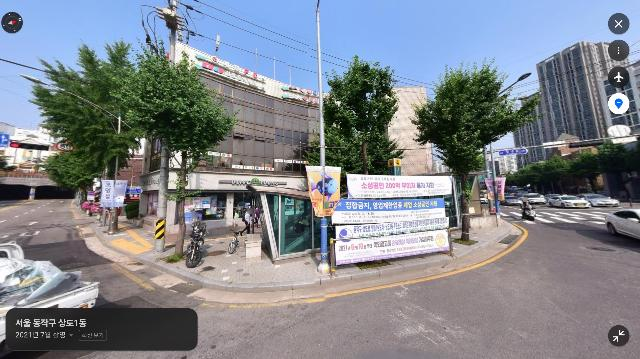other: (109, 47, 240, 266), (408, 55, 539, 247), (24, 35, 154, 228), (322, 53, 405, 175), (578, 139, 640, 200), (521, 148, 595, 196)
